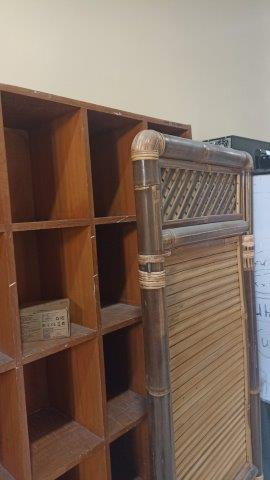kardus: (20, 299, 70, 337)
